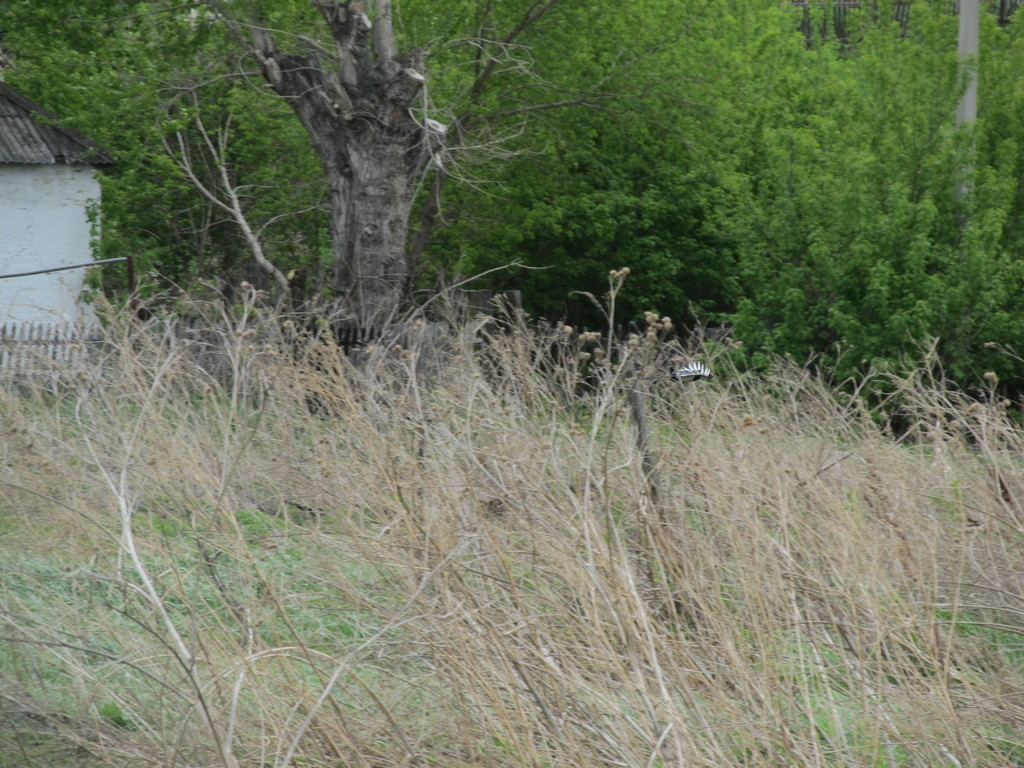Pica_pica: (653, 361, 714, 387)
